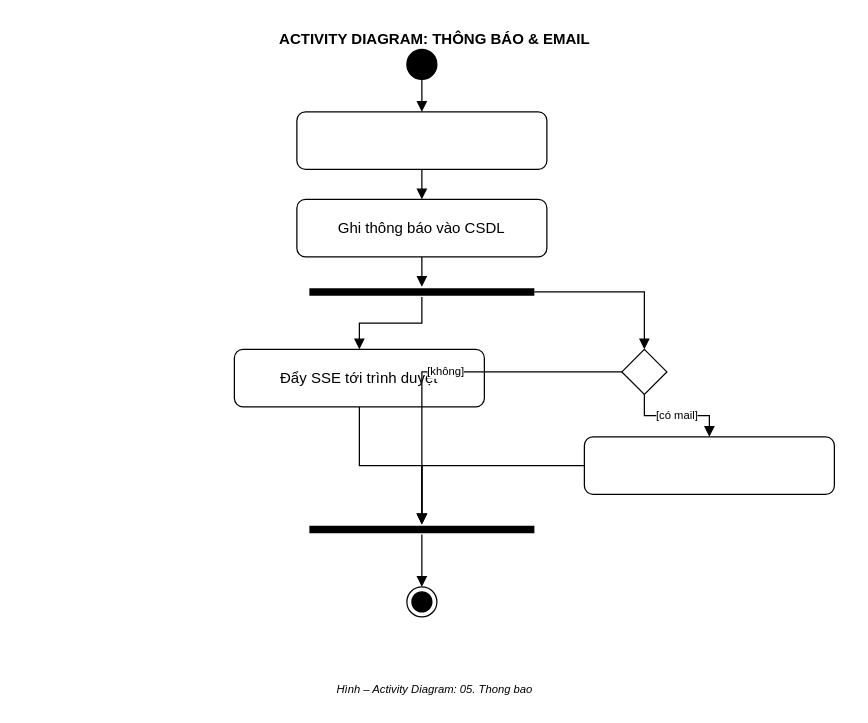
Image size: 868x723. Some labels were removed from this diagram. Each missing label, with the centre of its shape:
Gửi email cho khách: (708,465)
Phát sinh sự kiện hệ thống: (421,140)
